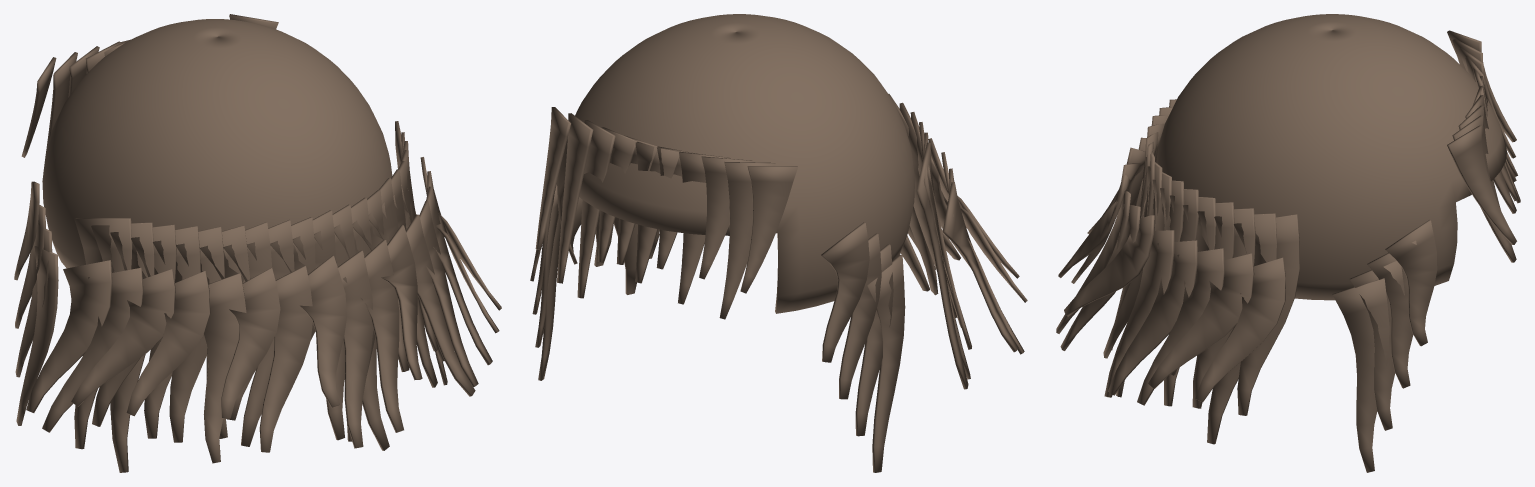
File: frisur_mehrlagig.glb
3 views of the same model, side by side, from view 1: azimuth 30°, elevation 25°; view 2: azimuth 150°, elevation 25°; view 3: azimuth 270°, elevation 25° (orthographic). The views are drawn at different scales.
Parts seen in each view (by area): view 1: G_frisur; view 2: G_frisur; view 3: G_frisur.
Part boxes in pixels (x1,y1,x2,y2): G_frisur: (14, 14, 501, 472); G_frisur: (530, 14, 1027, 472); G_frisur: (1056, 14, 1520, 472).
Size of the model in its own units: 0.3733 by 0.292 by 0.3411.
